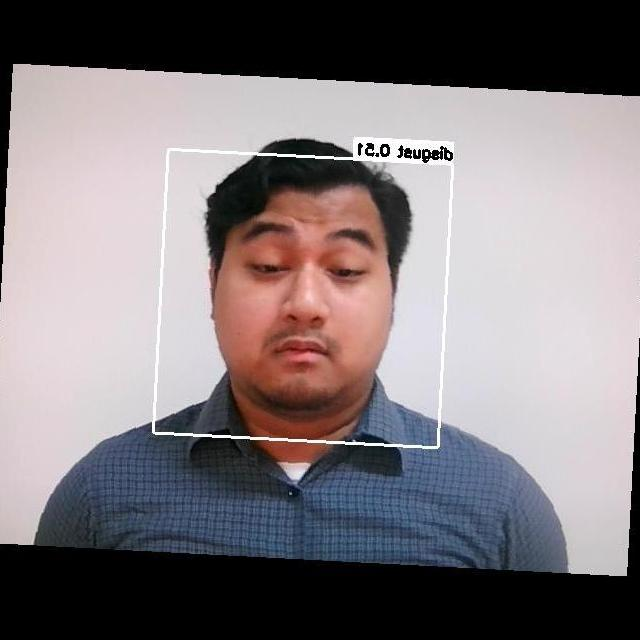Fear: (209, 201, 398, 396)
